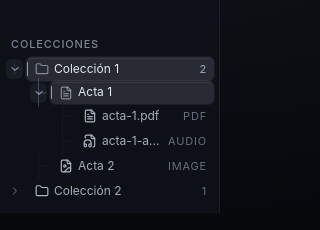
Test: DocumentExplorer › allows manually collapsing the active collection
This screenshot has width=320, height=230.
Expected: the list item "Acta 1" is shown, top-left (6, 81), bottom-right (214, 153)
Click the button named "Colapsar colección Colección 1".
click(14, 69)  # box top-left (6, 59), bottom-right (23, 79)
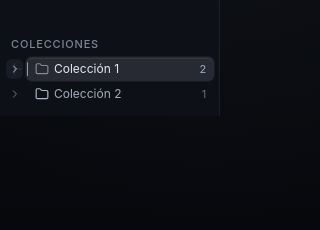
Result: the list item "Colección 1" is collapsed at top-left (6, 57), bottom-right (214, 81)
Result: the button "Acta 1" is gone
